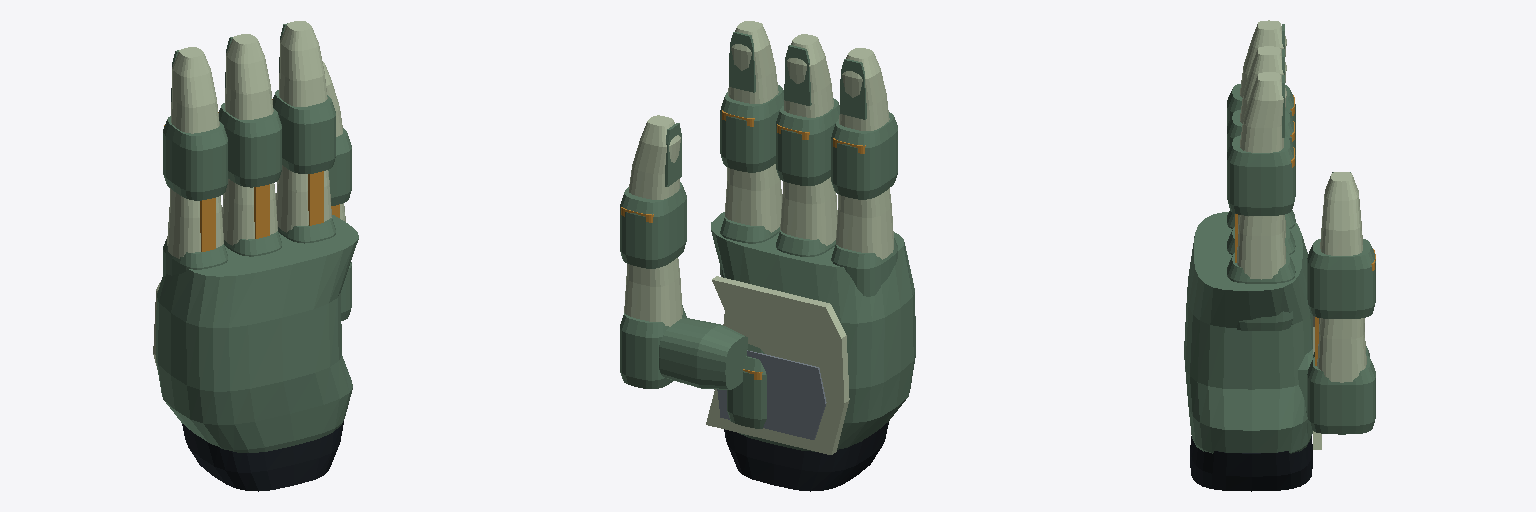
The robot description file, URDF, robot "TALON-9-left-source-hand":
<robot name="TALON-9-left-source-hand">
  <link name="palm">
    <visual>
      <material name="olive">
        <color rgba="0.4 0.51 0.43 1.0" />
      </material>
      <geometry>
        <mesh filename="meshes/palm_shell.obj" />
      </geometry>
    </visual>
    <visual>
      <material name="sage">
        <color rgba="0.72 0.77 0.66 1.0" />
      </material>
      <geometry>
        <mesh filename="meshes/palm_face.obj" />
      </geometry>
    </visual>
    <visual>
      <material name="graphite">
        <color rgba="0.13 0.15 0.17 1.0" />
      </material>
      <geometry>
        <mesh filename="meshes/wrist_collar.obj" />
      </geometry>
    </visual>
    <visual>
      <material name="alloy">
        <color rgba="0.5 0.54 0.57 1.0" />
      </material>
      <geometry>
        <mesh filename="meshes/palm_inlay.obj" />
      </geometry>
    </visual>
    <visual>
      <origin xyz="0.018 0.014 0.011" rpy="0 0 0" />
      <material name="olive">
        <color rgba="0.4 0.51 0.43 1.0" />
      </material>
      <geometry>
        <mesh filename="meshes/thumb_bearing_housing.obj" />
      </geometry>
    </visual>
    <visual>
      <origin xyz="0.018 0.014 0.011" rpy="0 0 0" />
      <material name="olive">
        <color rgba="0.4 0.51 0.43 1.0" />
      </material>
      <geometry>
        <mesh filename="meshes/thumb_socket.obj" />
      </geometry>
    </visual>
    <visual>
      <origin xyz="0.027 0.003 0.048" rpy="0 0 0" />
      <material name="olive">
        <color rgba="0.4 0.51 0.43 1.0" />
      </material>
      <geometry>
        <mesh filename="meshes/motor_cover.obj" scale="0.82 0.82 0.82" />
      </geometry>
    </visual>
    <visual>
      <origin xyz="0.008 0.003 0.048" rpy="0 0 0" />
      <material name="olive">
        <color rgba="0.4 0.51 0.43 1.0" />
      </material>
      <geometry>
        <mesh filename="meshes/motor_cover.obj" scale="0.82 0.82 0.82" />
      </geometry>
    </visual>
    <visual>
      <origin xyz="-0.011 0.003 0.048" rpy="0 0 0" />
      <material name="olive">
        <color rgba="0.4 0.51 0.43 1.0" />
      </material>
      <geometry>
        <mesh filename="meshes/motor_cover.obj" scale="0.82 0.82 0.82" />
      </geometry>
    </visual>
  </link>
  <link name="index_proximal">
    <visual>
      <material name="sage">
        <color rgba="0.72 0.77 0.66 1.0" />
      </material>
      <geometry>
        <mesh filename="meshes/proximal_shell.obj" scale="0.82 0.82 0.84" />
      </geometry>
    </visual>
    <visual>
      <material name="gold">
        <color rgba="0.78 0.56 0.24 1.0" />
      </material>
      <geometry>
        <mesh filename="meshes/proximal_spine.obj" scale="0.82 0.82 0.84" />
      </geometry>
    </visual>
    <visual>
      <origin xyz="0 0 0.03948" rpy="0 0 0" />
      <material name="olive">
        <color rgba="0.4 0.51 0.43 1.0" />
      </material>
      <geometry>
        <mesh filename="meshes/motor_cover.obj" scale="0.82 0.82 0.82" />
      </geometry>
    </visual>
    <visual>
      <origin xyz="0 0 0.03948" rpy="0 0 0" />
      <material name="gold">
        <color rgba="0.78 0.56 0.24 1.0" />
      </material>
      <geometry>
        <mesh filename="meshes/motor_cap.obj" scale="0.82 0.82 0.82" />
      </geometry>
    </visual>
  </link>
  <joint name="index_mcp_flex" type="revolute">
    <parent link="palm" />
    <child link="index_proximal" />
    <origin xyz="0.027 0.003 0.048" rpy="0 0 0" />
    <axis xyz="-1 0 0" />
    <limit lower="0" upper="1.4835298641951802" effort="1.5" velocity="2.0" />
  </joint>
  <link name="index_distal">
    <visual>
      <material name="sage">
        <color rgba="0.72 0.77 0.66 1.0" />
      </material>
      <geometry>
        <mesh filename="meshes/distal_shell.obj" scale="0.82 0.82 0.82" />
      </geometry>
    </visual>
    <visual>
      <material name="olive">
        <color rgba="0.4 0.51 0.43 1.0" />
      </material>
      <geometry>
        <mesh filename="meshes/distal_pad.obj" scale="0.82 0.82 0.82" />
      </geometry>
    </visual>
  </link>
  <joint name="index_pip_flex" type="revolute">
    <parent link="index_proximal" />
    <child link="index_distal" />
    <origin xyz="0 0 0.03948" rpy="0 0 0" />
    <axis xyz="-1 0 0" />
    <limit lower="0" upper="1.7453292519943295" effort="1.5" velocity="2.0" />
  </joint>
  <link name="middle_proximal">
    <visual>
      <material name="sage">
        <color rgba="0.72 0.77 0.66 1.0" />
      </material>
      <geometry>
        <mesh filename="meshes/proximal_shell.obj" scale="0.82 0.82 0.84" />
      </geometry>
    </visual>
    <visual>
      <material name="gold">
        <color rgba="0.78 0.56 0.24 1.0" />
      </material>
      <geometry>
        <mesh filename="meshes/proximal_spine.obj" scale="0.82 0.82 0.84" />
      </geometry>
    </visual>
    <visual>
      <origin xyz="0 0 0.03948" rpy="0 0 0" />
      <material name="olive">
        <color rgba="0.4 0.51 0.43 1.0" />
      </material>
      <geometry>
        <mesh filename="meshes/motor_cover.obj" scale="0.82 0.82 0.82" />
      </geometry>
    </visual>
    <visual>
      <origin xyz="0 0 0.03948" rpy="0 0 0" />
      <material name="gold">
        <color rgba="0.78 0.56 0.24 1.0" />
      </material>
      <geometry>
        <mesh filename="meshes/motor_cap.obj" scale="0.82 0.82 0.82" />
      </geometry>
    </visual>
  </link>
  <joint name="middle_mcp_flex" type="revolute">
    <parent link="palm" />
    <child link="middle_proximal" />
    <origin xyz="0.008 0.003 0.048" rpy="0 0 0" />
    <axis xyz="-1 0 0" />
    <limit lower="0" upper="1.4835298641951802" effort="1.5" velocity="2.0" />
  </joint>
  <link name="middle_distal">
    <visual>
      <material name="sage">
        <color rgba="0.72 0.77 0.66 1.0" />
      </material>
      <geometry>
        <mesh filename="meshes/distal_shell.obj" scale="0.82 0.82 0.82" />
      </geometry>
    </visual>
    <visual>
      <material name="olive">
        <color rgba="0.4 0.51 0.43 1.0" />
      </material>
      <geometry>
        <mesh filename="meshes/distal_pad.obj" scale="0.82 0.82 0.82" />
      </geometry>
    </visual>
  </link>
  <joint name="middle_pip_flex" type="revolute">
    <parent link="middle_proximal" />
    <child link="middle_distal" />
    <origin xyz="0 0 0.03948" rpy="0 0 0" />
    <axis xyz="-1 0 0" />
    <limit lower="0" upper="1.7453292519943295" effort="1.5" velocity="2.0" />
  </joint>
  <link name="ring_proximal">
    <visual>
      <material name="sage">
        <color rgba="0.72 0.77 0.66 1.0" />
      </material>
      <geometry>
        <mesh filename="meshes/proximal_shell.obj" scale="0.82 0.82 0.84" />
      </geometry>
    </visual>
    <visual>
      <material name="gold">
        <color rgba="0.78 0.56 0.24 1.0" />
      </material>
      <geometry>
        <mesh filename="meshes/proximal_spine.obj" scale="0.82 0.82 0.84" />
      </geometry>
    </visual>
    <visual>
      <origin xyz="0 0 0.03948" rpy="0 0 0" />
      <material name="olive">
        <color rgba="0.4 0.51 0.43 1.0" />
      </material>
      <geometry>
        <mesh filename="meshes/motor_cover.obj" scale="0.82 0.82 0.82" />
      </geometry>
    </visual>
    <visual>
      <origin xyz="0 0 0.03948" rpy="0 0 0" />
      <material name="gold">
        <color rgba="0.78 0.56 0.24 1.0" />
      </material>
      <geometry>
        <mesh filename="meshes/motor_cap.obj" scale="0.82 0.82 0.82" />
      </geometry>
    </visual>
  </link>
  <joint name="ring_mcp_flex" type="revolute">
    <parent link="palm" />
    <child link="ring_proximal" />
    <origin xyz="-0.011 0.003 0.048" rpy="0 0 0" />
    <axis xyz="-1 0 0" />
    <limit lower="0" upper="1.4835298641951802" effort="1.5" velocity="2.0" />
  </joint>
  <link name="ring_distal">
    <visual>
      <material name="sage">
        <color rgba="0.72 0.77 0.66 1.0" />
      </material>
      <geometry>
        <mesh filename="meshes/distal_shell.obj" scale="0.82 0.82 0.82" />
      </geometry>
    </visual>
    <visual>
      <material name="olive">
        <color rgba="0.4 0.51 0.43 1.0" />
      </material>
      <geometry>
        <mesh filename="meshes/distal_pad.obj" scale="0.82 0.82 0.82" />
      </geometry>
    </visual>
  </link>
  <joint name="ring_pip_flex" type="revolute">
    <parent link="ring_proximal" />
    <child link="ring_distal" />
    <origin xyz="0 0 0.03948" rpy="0 0 0" />
    <axis xyz="-1 0 0" />
    <limit lower="0" upper="1.7453292519943295" effort="1.5" velocity="2.0" />
  </joint>
  <link name="thumb_base_hub">
    <visual>
      <material name="alloy">
        <color rgba="0.5 0.54 0.57 1.0" />
      </material>
      <geometry>
        <mesh filename="meshes/thumb_rotor.obj" />
      </geometry>
    </visual>
    <visual>
      <origin xyz="0 0.014 0.011" rpy="0 1.5707963267948966 0" />
      <material name="olive">
        <color rgba="0.4 0.51 0.43 1.0" />
      </material>
      <geometry>
        <mesh filename="meshes/thumb_support.obj" />
      </geometry>
    </visual>
    <visual>
      <origin xyz="0 0 0" rpy="0 0 0" />
      <material name="olive">
        <color rgba="0.4 0.51 0.43 1.0" />
      </material>
      <geometry>
        <mesh filename="meshes/motor_cover.obj" scale="0.86 0.86 0.86" />
      </geometry>
    </visual>
    <visual>
      <origin xyz="0 0 0" rpy="0 0 0" />
      <material name="gold">
        <color rgba="0.78 0.56 0.24 1.0" />
      </material>
      <geometry>
        <mesh filename="meshes/motor_cap.obj" scale="0.86 0.86 0.86" />
      </geometry>
    </visual>
    <visual>
      <origin xyz="0.029 0.014 0.011" rpy="0 0 0" />
      <material name="olive">
        <color rgba="0.4 0.51 0.43 1.0" />
      </material>
      <geometry>
        <mesh filename="meshes/motor_cover.obj" scale="0.82 0.82 0.82" />
      </geometry>
    </visual>
  </link>
  <joint name="thumb_base_sweep" type="revolute">
    <parent link="palm" />
    <child link="thumb_base_hub" />
    <origin xyz="0.018 0.014 0.011" rpy="0 0 0" />
    <axis xyz="0 0 1" />
    <limit lower="-0.3490658503988659" upper="1.5009831567151235" effort="1.5" velocity="2.0" />
  </joint>
  <link name="thumb_proximal">
    <visual>
      <material name="sage">
        <color rgba="0.72 0.77 0.66 1.0" />
      </material>
      <geometry>
        <mesh filename="meshes/proximal_shell.obj" scale="0.82 0.82 0.84" />
      </geometry>
    </visual>
    <visual>
      <material name="gold">
        <color rgba="0.78 0.56 0.24 1.0" />
      </material>
      <geometry>
        <mesh filename="meshes/proximal_spine.obj" scale="0.82 0.82 0.84" />
      </geometry>
    </visual>
    <visual>
      <origin xyz="0 0 0.03948" rpy="0 0 0" />
      <material name="olive">
        <color rgba="0.4 0.51 0.43 1.0" />
      </material>
      <geometry>
        <mesh filename="meshes/motor_cover.obj" scale="0.82 0.82 0.82" />
      </geometry>
    </visual>
    <visual>
      <origin xyz="0 0 0.03948" rpy="0 0 0" />
      <material name="gold">
        <color rgba="0.78 0.56 0.24 1.0" />
      </material>
      <geometry>
        <mesh filename="meshes/motor_cap.obj" scale="0.82 0.82 0.82" />
      </geometry>
    </visual>
  </link>
  <joint name="thumb_mcp_flex" type="revolute">
    <parent link="thumb_base_hub" />
    <child link="thumb_proximal" />
    <origin xyz="0.029 0.014 0.011" rpy="0 0 0" />
    <axis xyz="-1 0 0" />
    <limit lower="0" upper="1.4835298641951802" effort="1.5" velocity="2.0" />
  </joint>
  <link name="thumb_distal">
    <visual>
      <origin xyz="0 0 0" rpy="0 0 1.5707963267948966" />
      <material name="sage">
        <color rgba="0.72 0.77 0.66 1.0" />
      </material>
      <geometry>
        <mesh filename="meshes/distal_shell.obj" scale="0.82 0.82 0.82" />
      </geometry>
    </visual>
    <visual>
      <origin xyz="0 0 0" rpy="0 0 1.5707963267948966" />
      <material name="olive">
        <color rgba="0.4 0.51 0.43 1.0" />
      </material>
      <geometry>
        <mesh filename="meshes/distal_pad.obj" scale="0.82 0.82 0.82" />
      </geometry>
    </visual>
  </link>
  <joint name="thumb_pip_flex" type="revolute">
    <parent link="thumb_proximal" />
    <child link="thumb_distal" />
    <origin xyz="0 0 0.03948" rpy="0 0 0" />
    <axis xyz="-1 0 0" />
    <limit lower="0" upper="1.7453292519943295" effort="1.5" velocity="2.0" />
  </joint>
</robot>

--- What the picture shows (computed from the rendered views, not written in the file) ---
The picture shows the robot from 3 angles, left to right: view 1: azimuth 30°, elevation 25°; view 2: azimuth 150°, elevation 25°; view 3: azimuth 270°, elevation 25°; orthographic projection.
Robot: TALON-9-left-source-hand — 10 links, 9 joints (9 revolute); root link palm; default pose: every joint at zero.
Visible links, largest first — view 1: palm, ring_proximal, middle_proximal, index_proximal, ring_distal, middle_distal, index_distal, thumb_proximal; view 2: palm, thumb_base_hub, ring_proximal, thumb_proximal, index_proximal, middle_proximal, thumb_distal, middle_distal, index_distal, ring_distal; view 3: palm, thumb_proximal, index_proximal, thumb_base_hub, index_distal, thumb_distal, middle_distal, ring_distal, middle_proximal, ring_proximal.
Boxes of the visible links, x1=… form: palm: x1=153, y1=215, x2=358, y2=491; ring_proximal: x1=163, y1=116, x2=227, y2=258; middle_proximal: x1=218, y1=103, x2=281, y2=245; index_proximal: x1=272, y1=90, x2=335, y2=232; ring_distal: x1=171, y1=47, x2=219, y2=133; middle_distal: x1=225, y1=34, x2=273, y2=119; index_distal: x1=279, y1=21, x2=327, y2=106; thumb_proximal: x1=328, y1=128, x2=351, y2=221; palm: x1=706, y1=212, x2=915, y2=491; thumb_base_hub: x1=620, y1=305, x2=766, y2=428; ring_proximal: x1=831, y1=112, x2=897, y2=259; thumb_proximal: x1=620, y1=182, x2=686, y2=326; index_proximal: x1=720, y1=85, x2=783, y2=232; middle_proximal: x1=776, y1=98, x2=839, y2=245; thumb_distal: x1=629, y1=115, x2=681, y2=199; middle_distal: x1=784, y1=34, x2=833, y2=117; index_distal: x1=728, y1=21, x2=778, y2=103; ring_distal: x1=839, y1=48, x2=889, y2=130; palm: x1=1184, y1=210, x2=1321, y2=491; thumb_proximal: x1=1307, y1=239, x2=1375, y2=382; index_proximal: x1=1227, y1=135, x2=1295, y2=279; thumb_base_hub: x1=1307, y1=346, x2=1375, y2=434; index_distal: x1=1240, y1=72, x2=1286, y2=152; thumb_distal: x1=1320, y1=172, x2=1362, y2=255; middle_distal: x1=1240, y1=46, x2=1286, y2=123; ring_distal: x1=1240, y1=20, x2=1286, y2=97; middle_proximal: x1=1227, y1=110, x2=1295, y2=237; ring_proximal: x1=1227, y1=84, x2=1295, y2=129.
Size in the robot's own frame: 0.0767 by 0.0597 by 0.1411 metres.
Meshes: 14 distinct files referenced, 38 mesh visuals loaded (14 OBJ).
